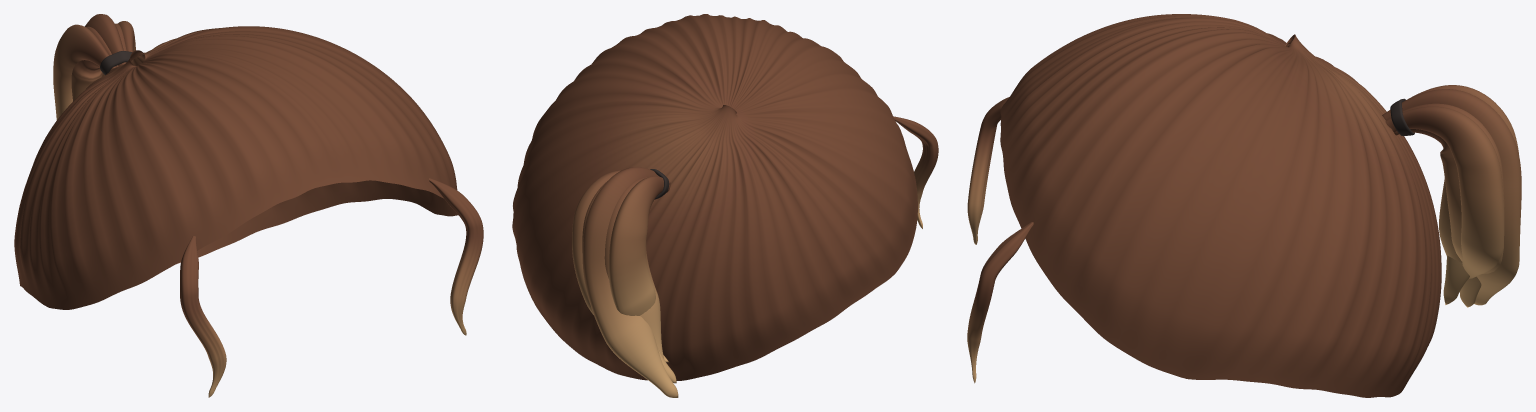
File: ponytail-headband-ombre.glb
The picture shows the model from 3 angles, left to right: view 1: azimuth 30°, elevation 25°; view 2: azimuth 150°, elevation 25°; view 3: azimuth 270°, elevation 25°; orthographic projection. The views are drawn at different scales.
Parts seen in each view (by area): view 1: Hair / swept roots220, Hair / adjustable front216 1, Hair / adjustable front216 -1, Hair / rounded tail220 0, Hair / rounded tail220 1, Hair / rounded tail220 2, Hair / tie220; view 2: Hair / swept roots220, Hair / rounded tail220 2, Hair / rounded tail220 0, Hair / rounded tail220 4, Hair / adjustable front216 -1, Hair / rounded tail220 1; view 3: Hair / swept roots220, Hair / rounded tail220 4, Hair / rounded tail220 2, Hair / adjustable front216 1, Hair / rounded tail220 3, Hair / adjustable front216 -1, Hair / rounded tail220 0, Hair / rounded tail220 1.
Boxes of the visible parts, left/top/right/bottom form: Hair / swept roots220: left=14, top=26, right=457, bottom=309; Hair / adjustable front216 1: left=429, top=178, right=483, bottom=335; Hair / adjustable front216 -1: left=180, top=236, right=226, bottom=397; Hair / rounded tail220 0: left=53, top=24, right=115, bottom=120; Hair / rounded tail220 1: left=71, top=26, right=118, bottom=100; Hair / rounded tail220 2: left=85, top=14, right=126, bottom=76; Hair / tie220: left=100, top=51, right=132, bottom=75; Hair / swept roots220: left=512, top=14, right=917, bottom=380; Hair / rounded tail220 2: left=582, top=167, right=678, bottom=397; Hair / rounded tail220 0: left=608, top=176, right=670, bottom=315; Hair / rounded tail220 4: left=572, top=170, right=668, bottom=362; Hair / adjustable front216 -1: left=893, top=116, right=938, bottom=228; Hair / rounded tail220 1: left=604, top=176, right=663, bottom=358; Hair / swept roots220: left=1000, top=14, right=1441, bottom=397; Hair / rounded tail220 4: left=1385, top=106, right=1504, bottom=278; Hair / rounded tail220 2: left=1382, top=89, right=1521, bottom=305; Hair / adjustable front216 1: left=967, top=222, right=1033, bottom=383; Hair / rounded tail220 3: left=1385, top=103, right=1504, bottom=273; Hair / adjustable front216 -1: left=967, top=97, right=1009, bottom=244; Hair / rounded tail220 0: left=1408, top=85, right=1519, bottom=304; Hair / rounded tail220 1: left=1439, top=178, right=1481, bottom=307.
Bounding box in the file's own units: 0.7726 × 0.5798 × 0.861.
9 materials, 8 textured.
